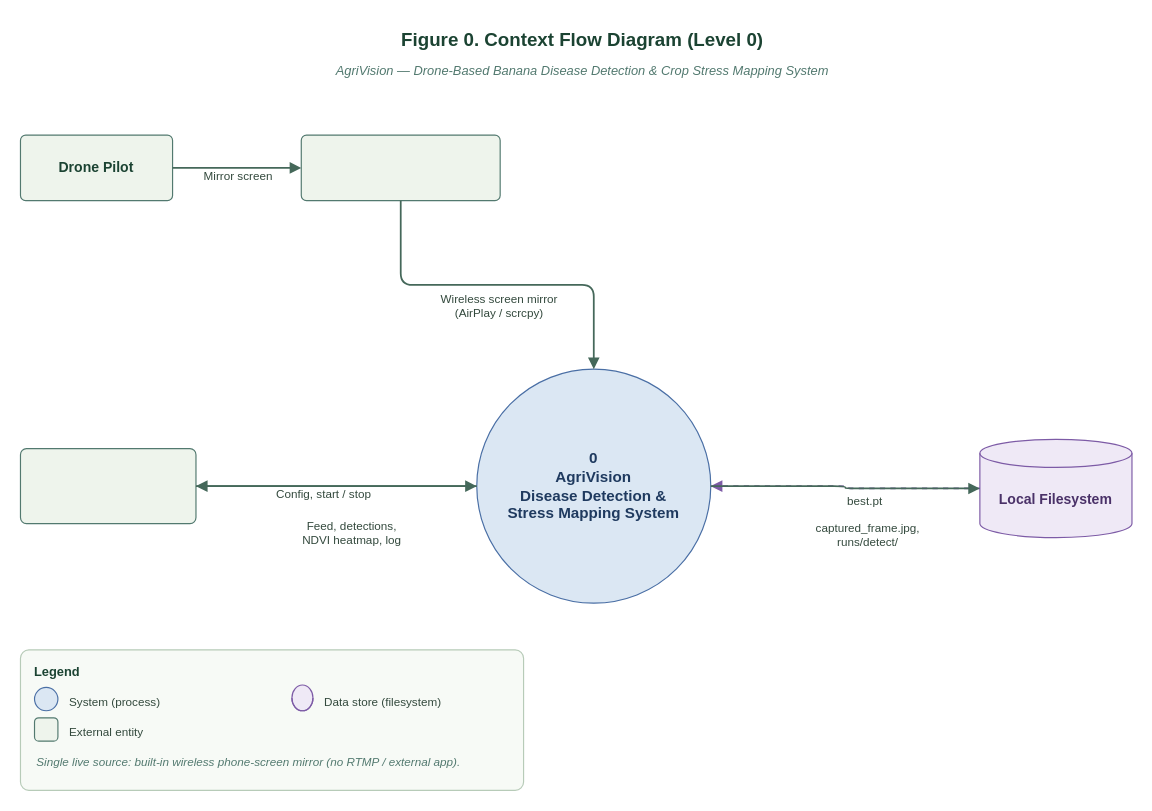
The diagram is 1152 pixels wide and 811 high, and some of its shapes have lost their labels. The centre of each missing label's shape, as x and y in pixels:
Drone Feed on Phone ( Android): (x=400, y=167)
Farm Operator / Analyst: (x=107, y=486)
